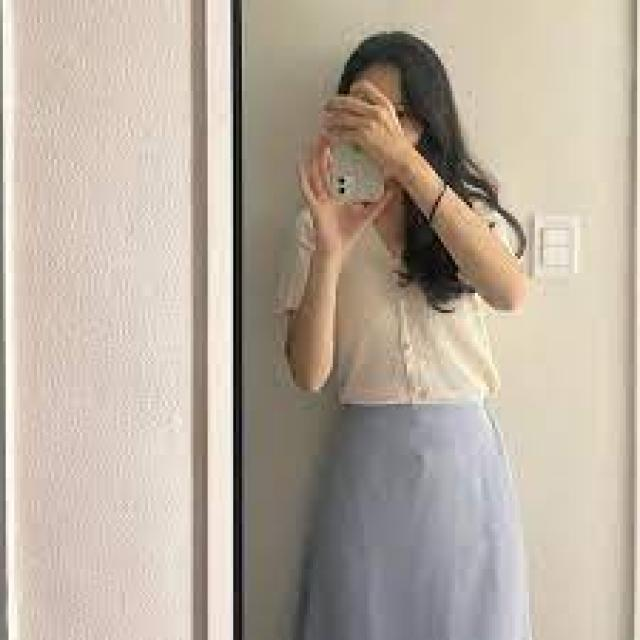Phone: (326, 100, 389, 207)
